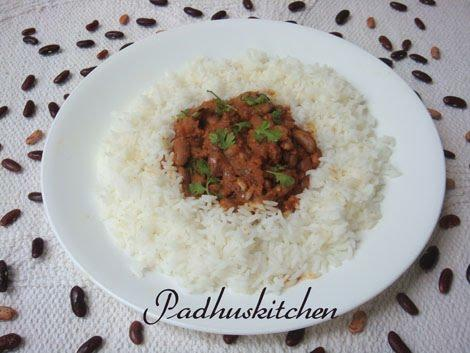rajma: (185, 103, 307, 202)
rice: (127, 207, 414, 285)
